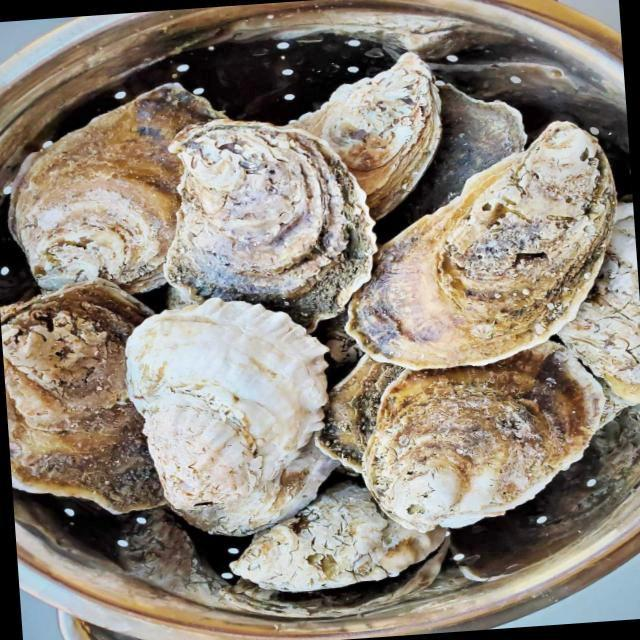Oyster-Closed: (344, 120, 618, 371), (124, 305, 337, 535), (365, 341, 612, 535), (161, 121, 376, 333), (10, 85, 226, 295), (0, 285, 165, 515), (298, 53, 440, 220), (230, 493, 447, 594), (305, 332, 419, 494), (556, 200, 639, 405)
